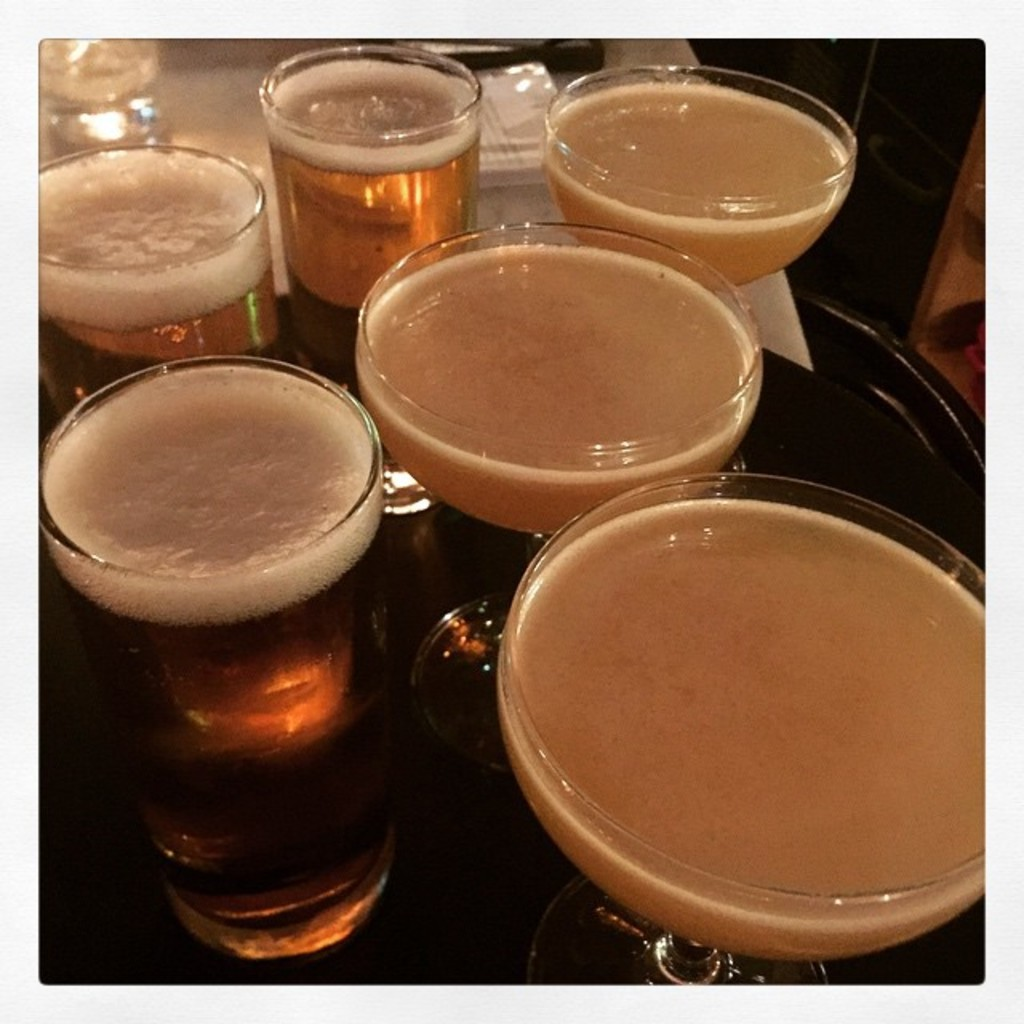Beer: (465, 462, 1001, 1022), (334, 219, 782, 787), (7, 348, 396, 976), (521, 60, 852, 406), (14, 135, 292, 416), (257, 48, 481, 350)
